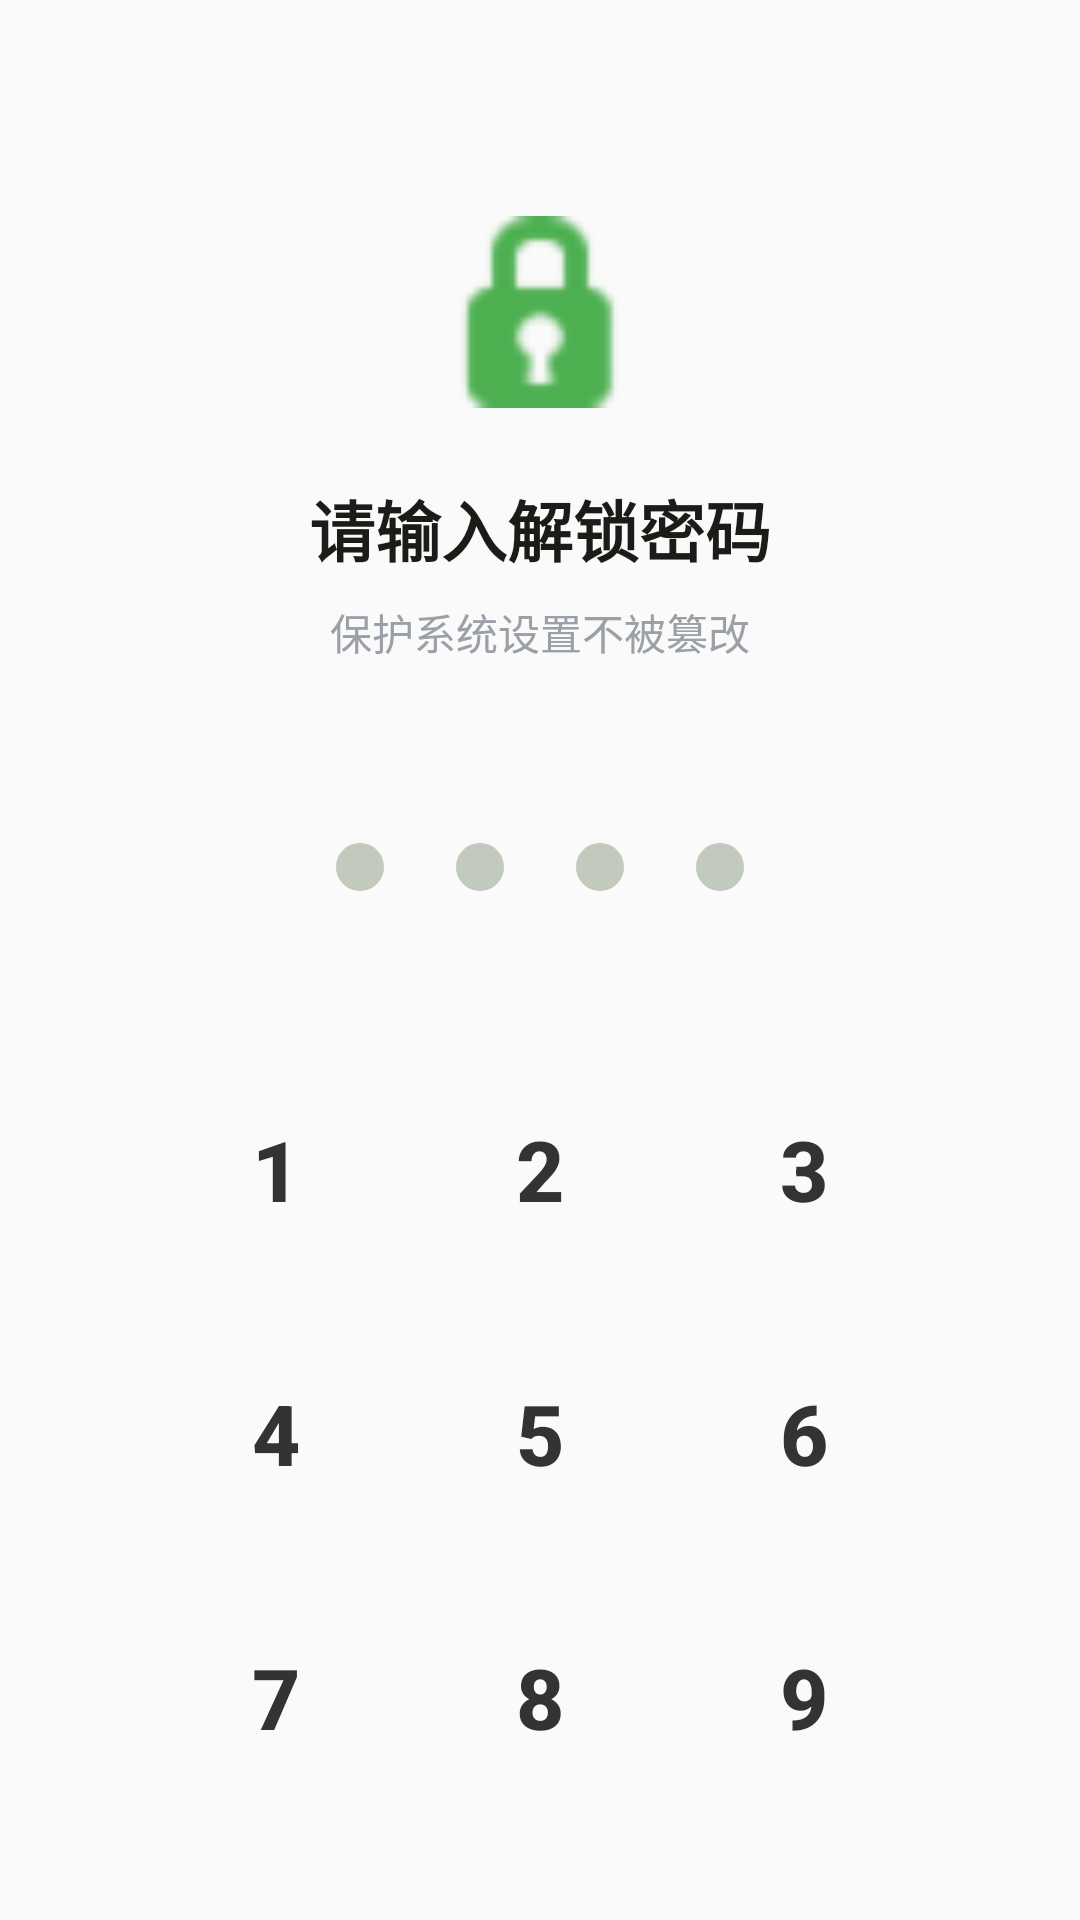

Where to tap for icons on this 1080x1920 app screen, as [x,y]:
secure: [539,312]
